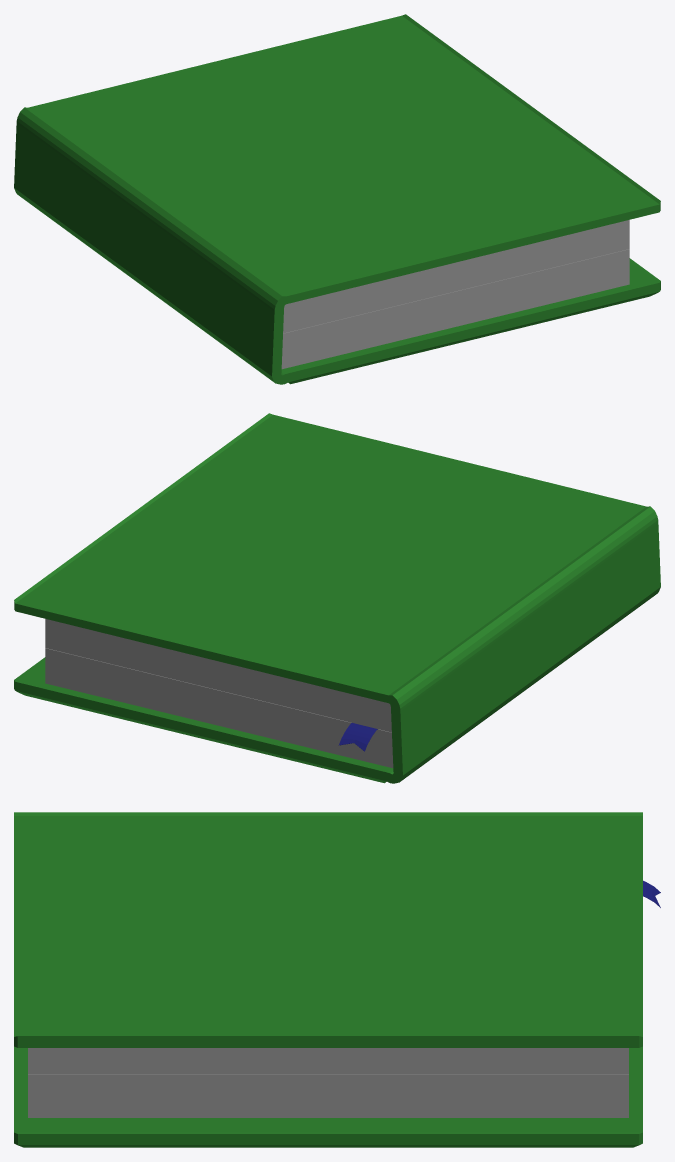
Rendered from book3.obj.
The picture shows the model from 3 angles, top to bottom: view 1: azimuth 30°, elevation 25°; view 2: azimuth 150°, elevation 25°; view 3: azimuth 270°, elevation 25°; orthographic projection. The views are drawn at different scales.
Parts seen in each view (by area): view 1: Mesh1; view 2: Mesh1; view 3: Mesh1.
Boxes of the visible parts, box(x1,y1,x2,y2) form: Mesh1: box(14, 14, 660, 384); Mesh1: box(14, 413, 660, 783); Mesh1: box(14, 812, 660, 1147).
Size of the model in its own units: 8.75 by 2.05 by 10.29.
